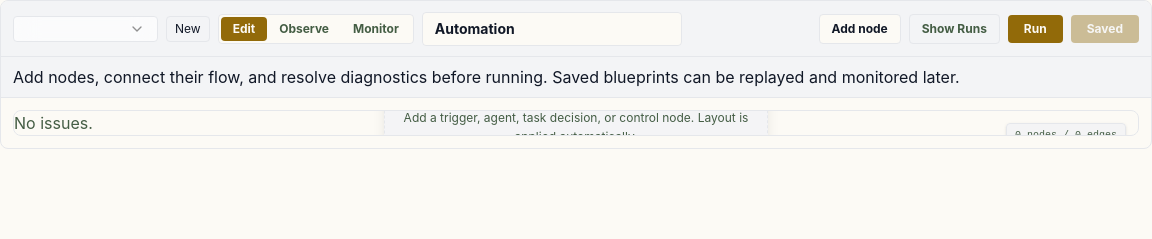
Test: AutomationsView › keeps runs hidden by default in edit mode and opens them on demand
Click the button "Show Runs" at x=954, y=28, box [909, 14, 1000, 44]
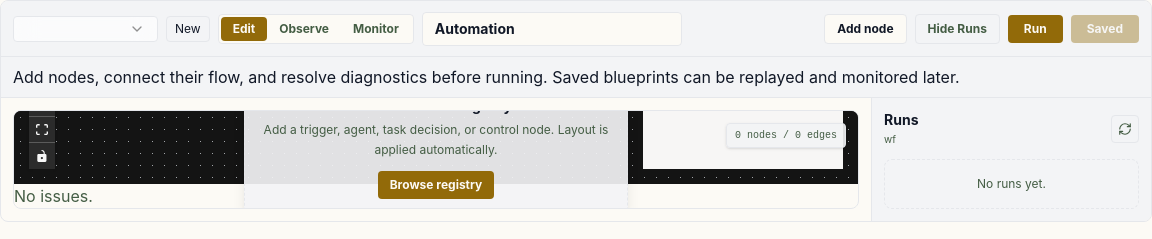
Check: the heading "Runs" is shown, box [884, 110, 918, 130]
